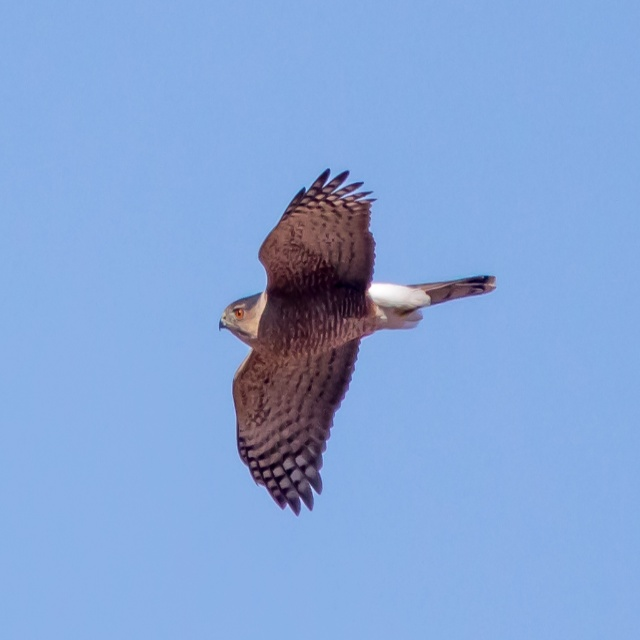Eagle: (217, 163, 497, 524)
